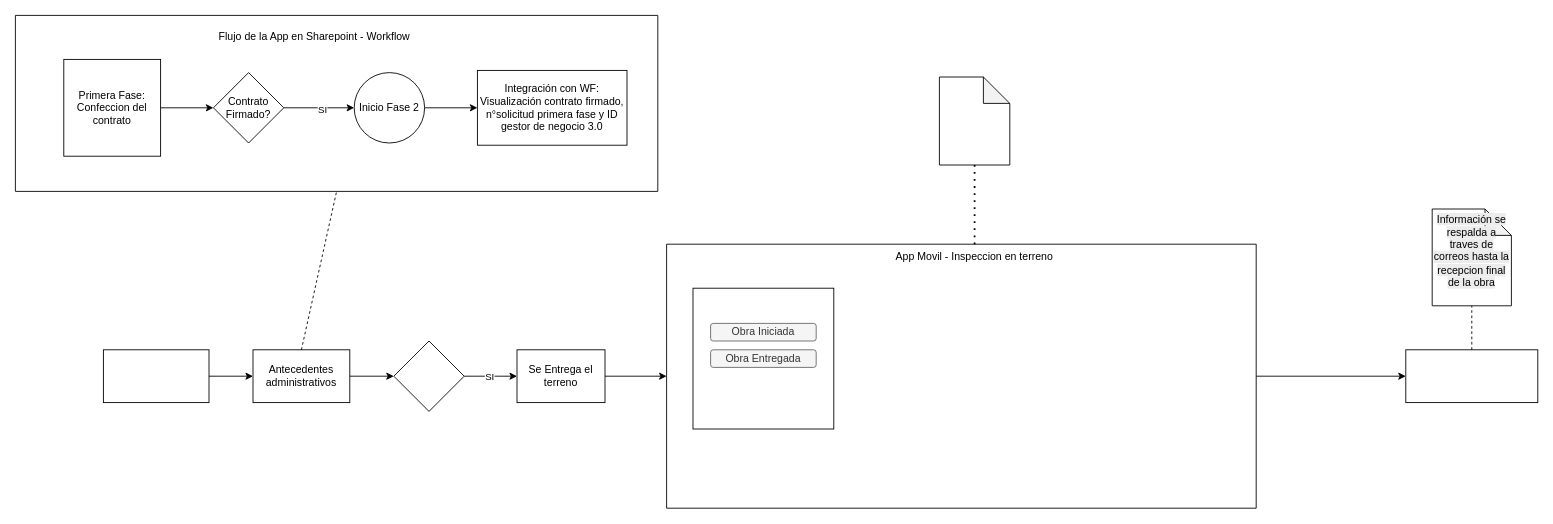
Image size: 1553x524. Some labels were removed from this diagram. The shapes that lost their labels are listed below. From the top down, each one's box as (x1, y1, x2, y2) in pixels, then its label:
(939, 76, 1010, 165): Supervisión de los avances conforme a lo estipulado en el proyecto aprobado.
(103, 349, 209, 403): Solicitud de Terreno
(393, 340, 464, 411): Cumple?
(692, 287, 834, 429): Posibles estados de entrada: Obra o Proyecto??
(1405, 349, 1538, 403): Recepcion Final de la Obra
